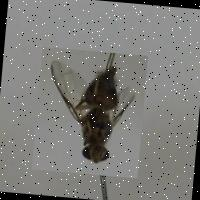Oriental-fruit-fly: (32, 45, 148, 178)
